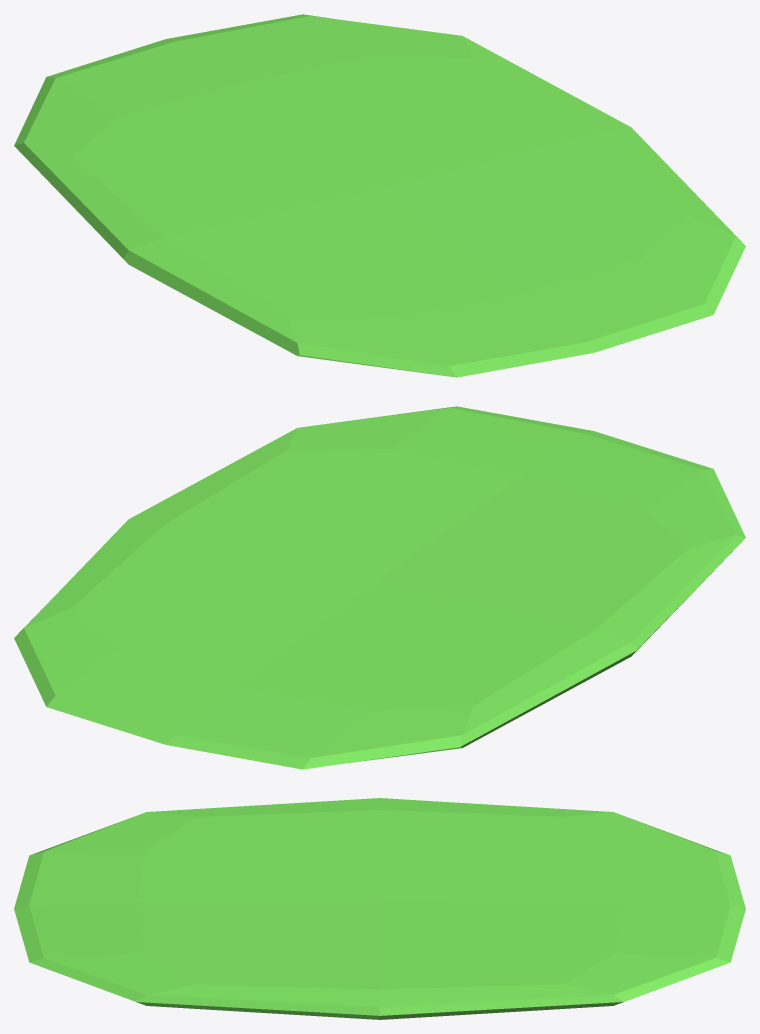
The model's file is leaf.fbx.
3 renders of one model, top to bottom at view 1: azimuth 30°, elevation 25°; view 2: azimuth 150°, elevation 25°; view 3: azimuth 270°, elevation 25°, orthographic. The views are drawn at different scales.
Parts seen in each view (by area): view 1: Cube; view 2: Cube; view 3: Cube.
Part boxes in pixels (x1,y1,x2,y2): Cube: [14, 14, 745, 377]; Cube: [14, 406, 745, 769]; Cube: [14, 798, 745, 1019].
Bounding box in the file's own units: 192 × 7.83 × 278.
